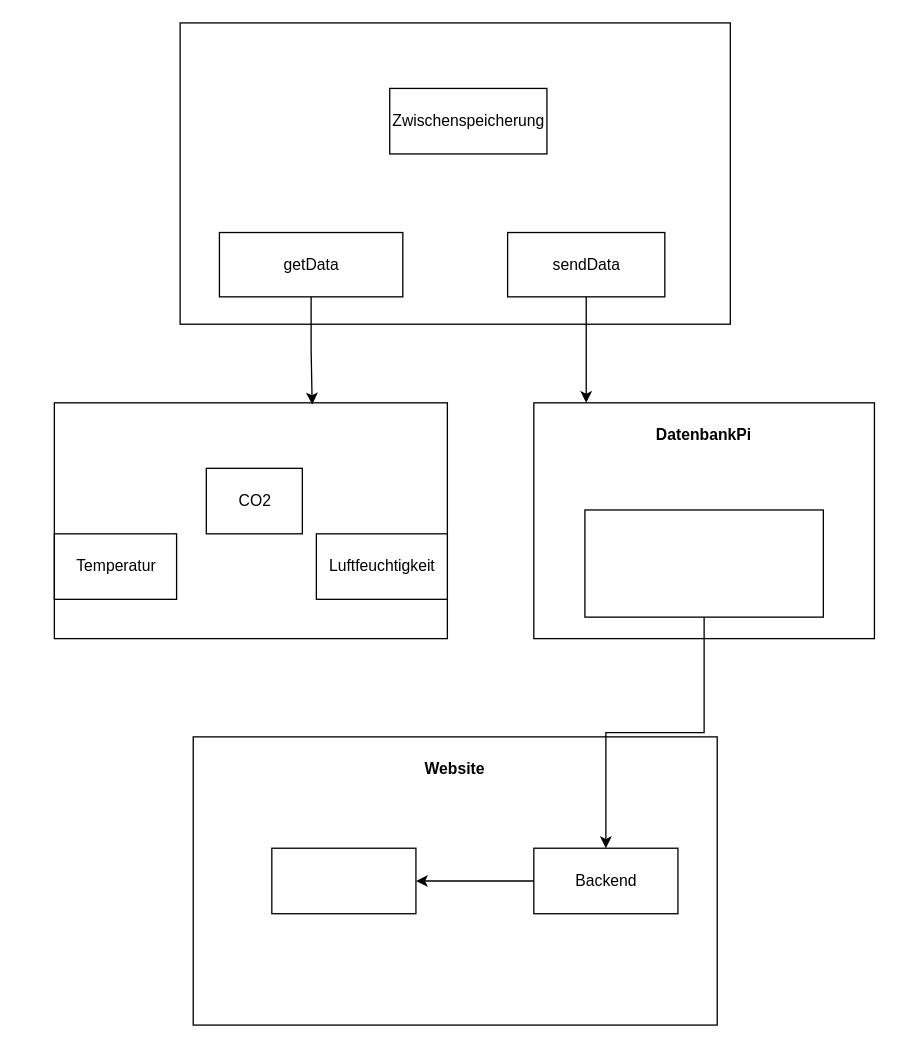
Some shapes in this 897 by 1048 pixel diagram are drawn without their labels. Each missing label, with the box of its shape:
Frontend: (271, 847, 416, 914)
JoyPi: (179, 22, 730, 324)
MySQL Datenbankserver: (584, 509, 823, 617)
Sensor: (53, 402, 447, 639)
